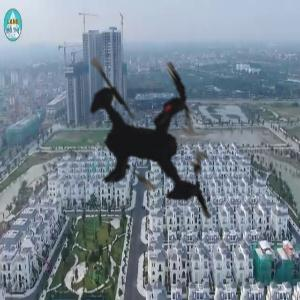drone: (15, 2, 292, 279)
